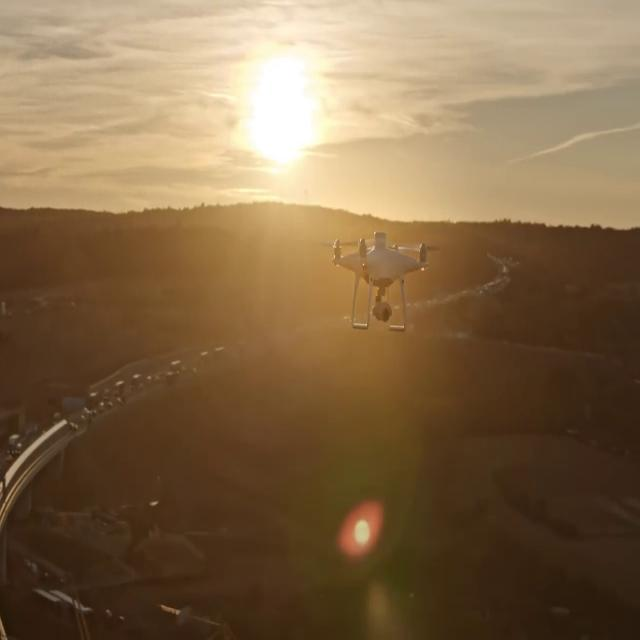drone: (315, 227, 441, 335)
